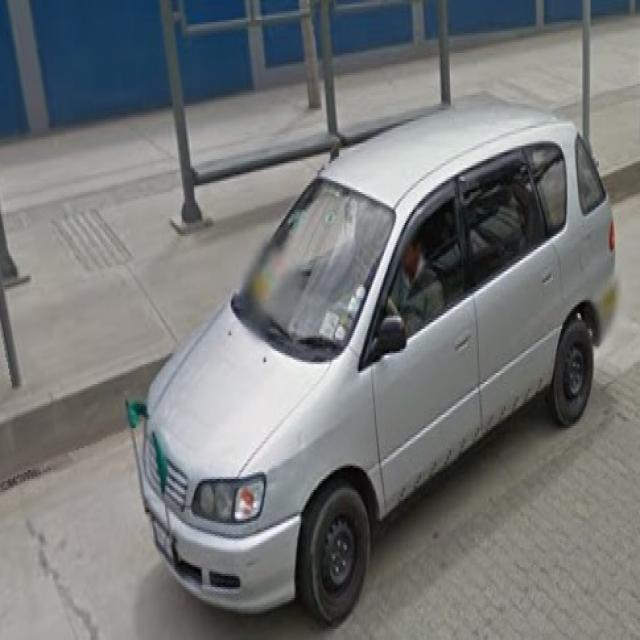cars: (136, 95, 622, 625)
